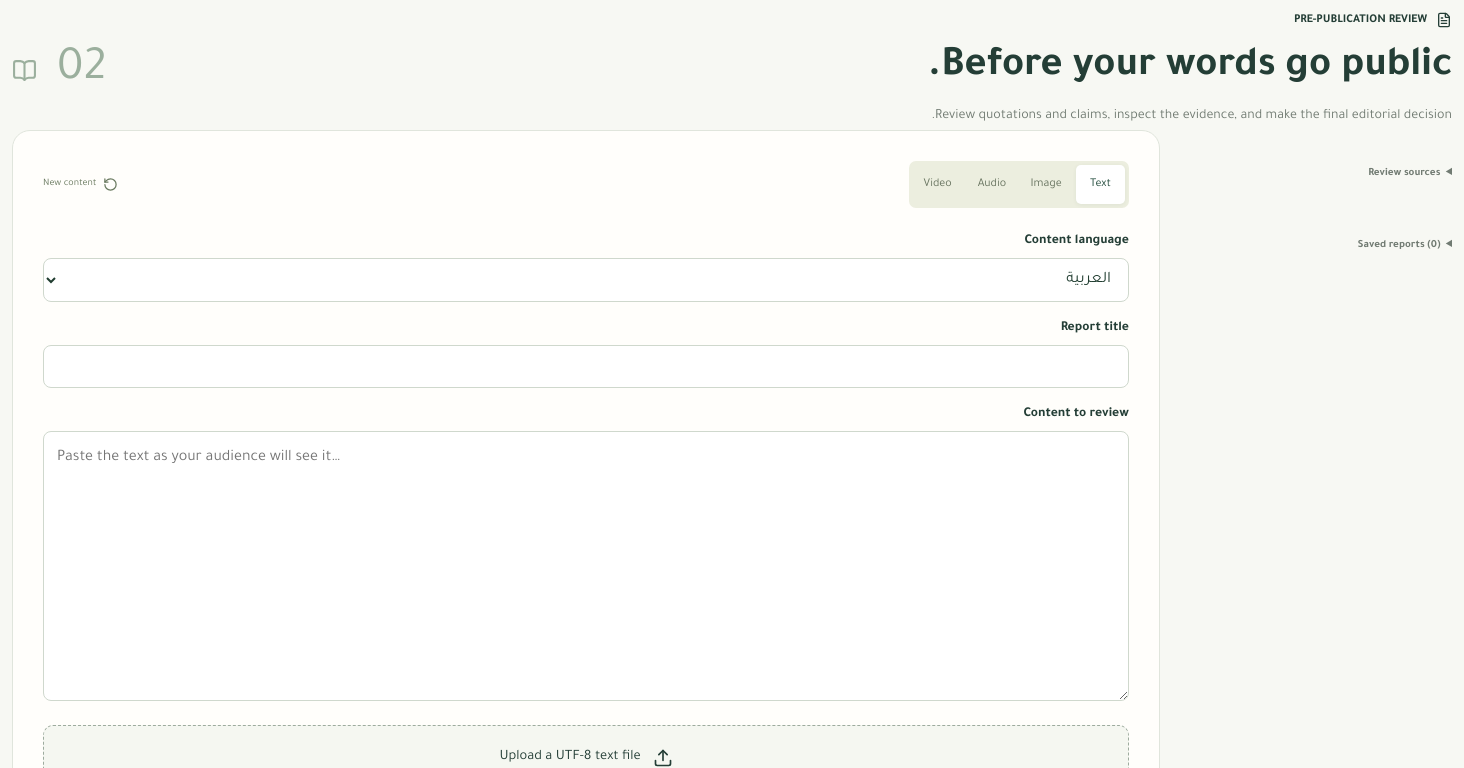
Test case: cancels sample preparation without inventing or saving a result
The width and height of the screenshot is (1464, 768).
Click the button "Audio": coordinates (992, 184) [967,165,1017,204]
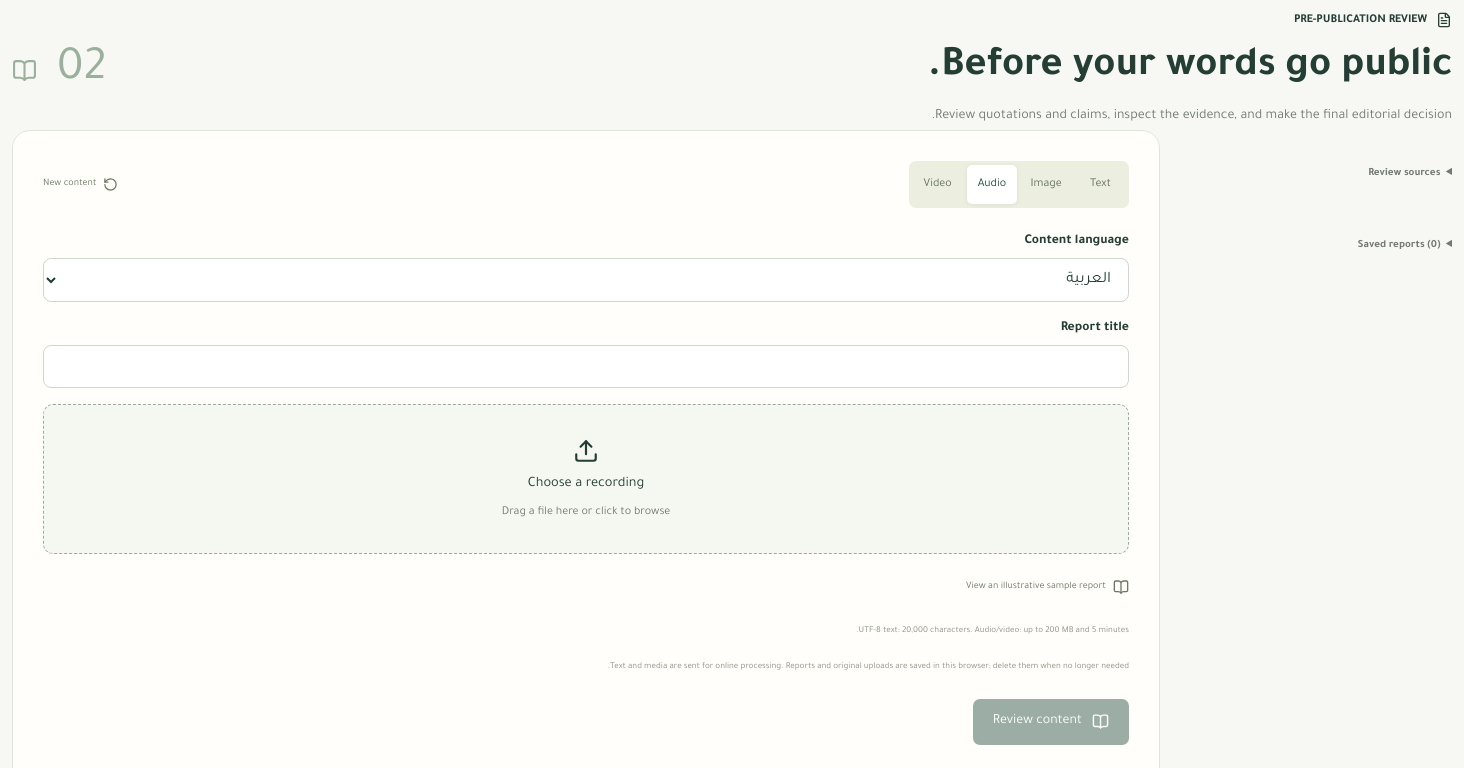
Click the button "View an illustrative sample report": coordinates (1048, 587) [966,572,1129,602]
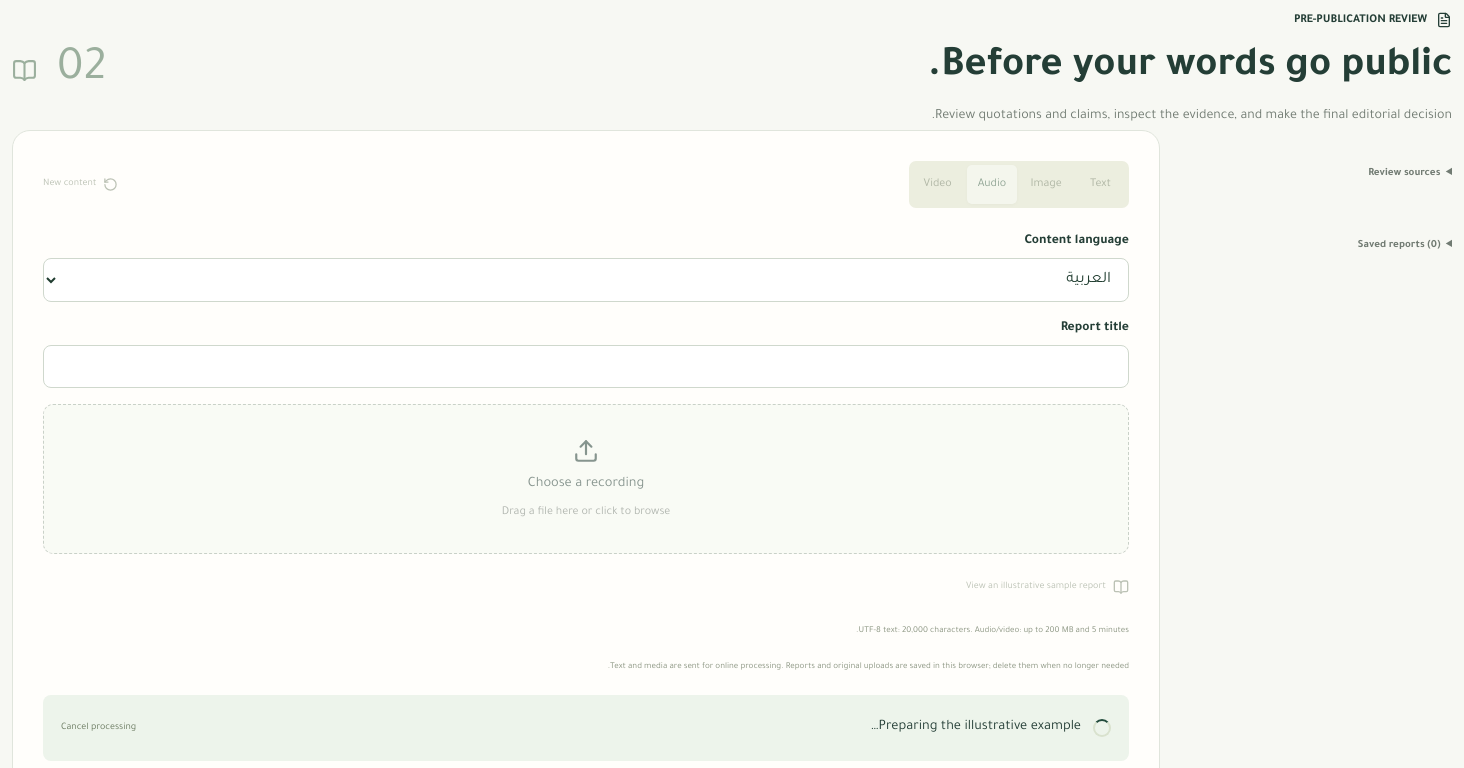
Click the button "Cancel processing": coordinates (99, 728) [61,713,136,743]
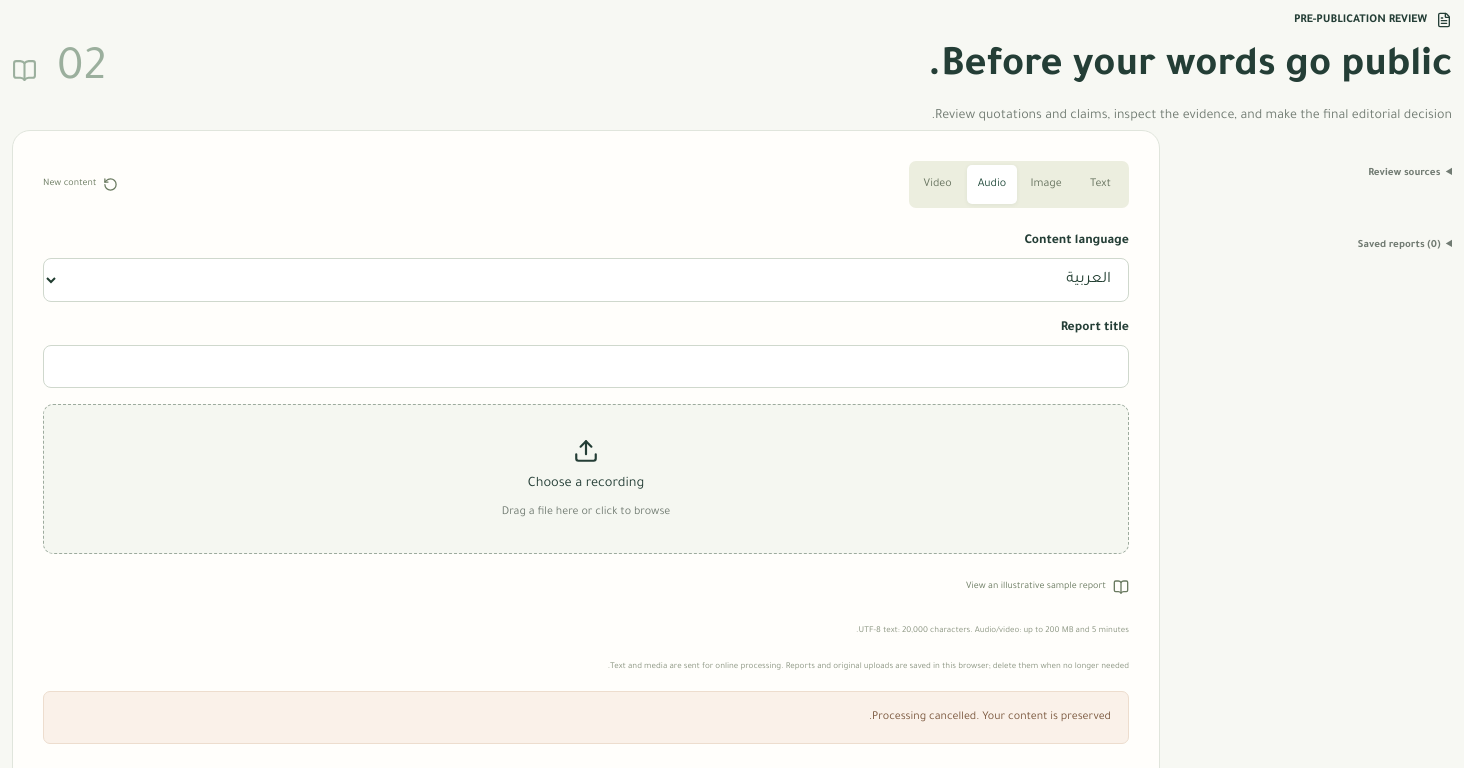
Expected: the text "Preparing the illustrative example…" is gone
